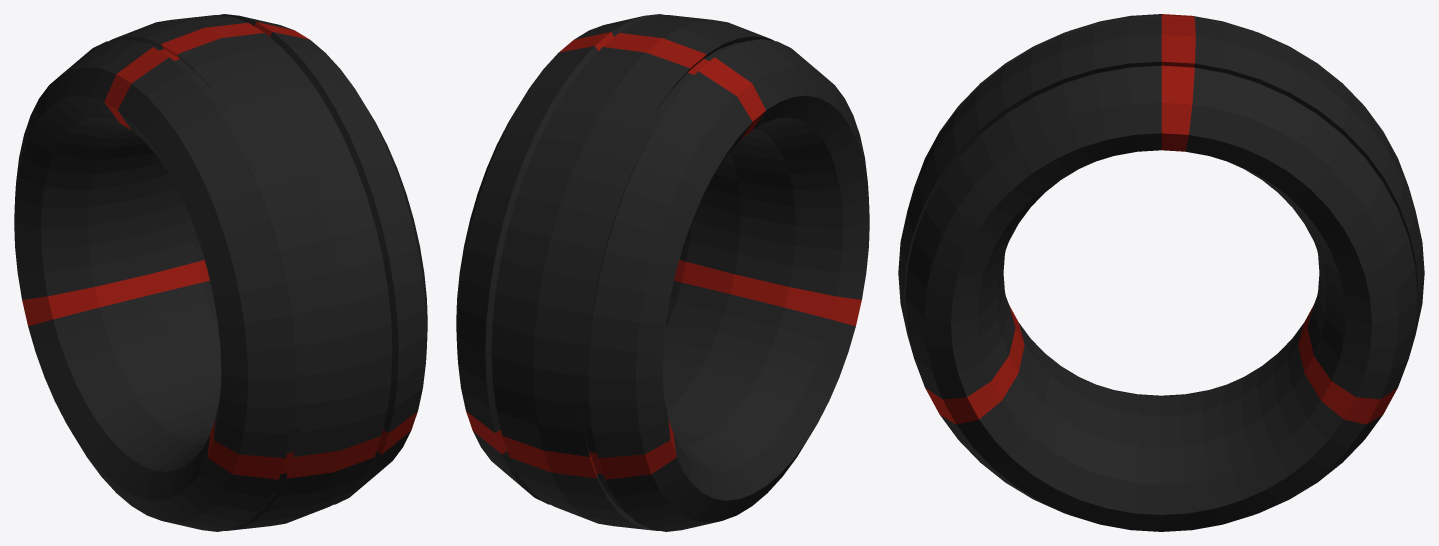
Rendered from Wheel.fbx.
3 renders of one model, left to right at view 1: azimuth 30°, elevation 25°; view 2: azimuth 150°, elevation 25°; view 3: azimuth 270°, elevation 25°, orthographic.
Parts seen in each view (by area): view 1: Wheel; view 2: Wheel; view 3: Wheel.
Part boxes in pixels (box(x1,y1,x2,y2)): Wheel: box(14, 14, 427, 531); Wheel: box(456, 14, 869, 531); Wheel: box(898, 14, 1424, 531).
Size of the model in its own units: 93.1 by 202 by 202.
